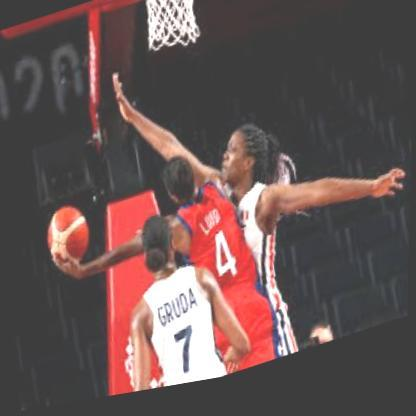basketball: (44, 203, 95, 274)
